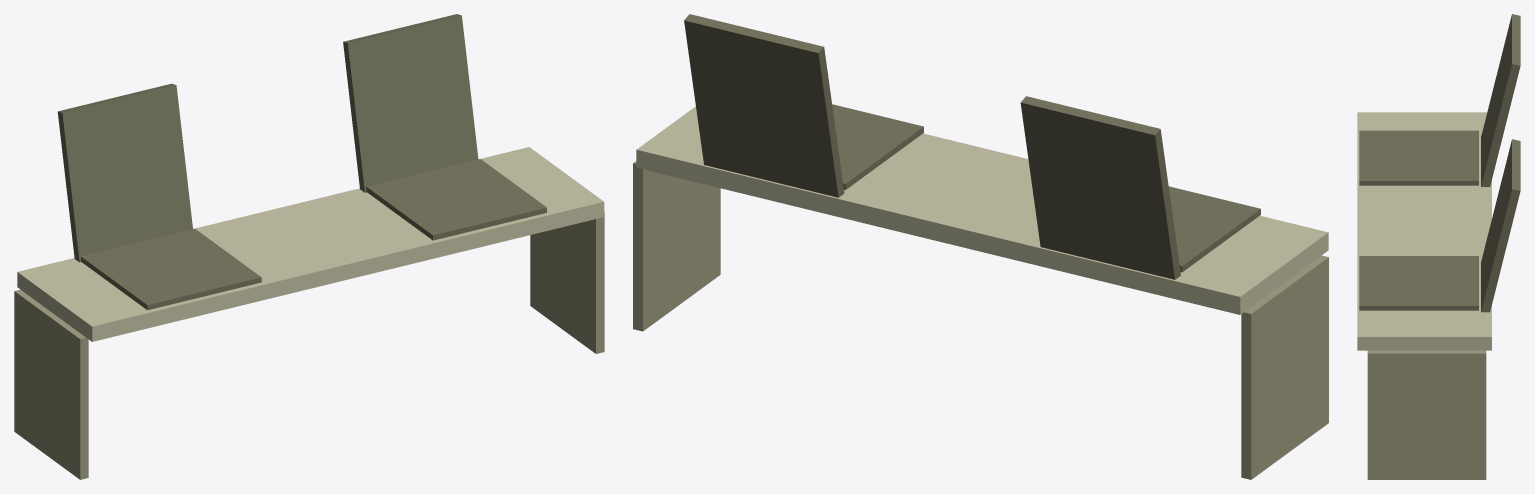
Rendered from Banco 2.fbx.
The picture shows the model from 3 angles, left to right: view 1: azimuth 30°, elevation 25°; view 2: azimuth 150°, elevation 25°; view 3: azimuth 270°, elevation 25°; orthographic projection. The views are drawn at different scales.
Parts seen in each view (by area): view 1: banco 2; view 2: banco 2; view 3: banco 2.
Part boxes in pixels (box(x1,y1,x2,y2)): banco 2: box(14, 14, 604, 479); banco 2: box(633, 14, 1328, 479); banco 2: box(1357, 14, 1520, 479).
Bounding box in the file's own units: 613 × 327 × 184.
